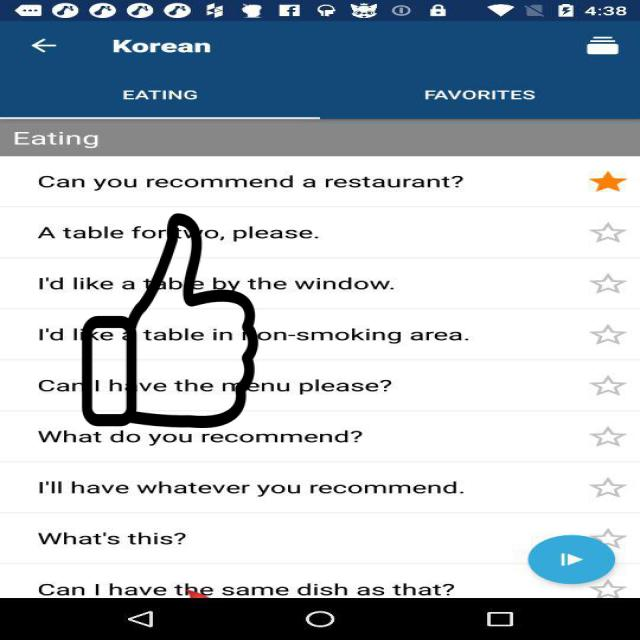privacy zuckering: (79, 213, 261, 428)
